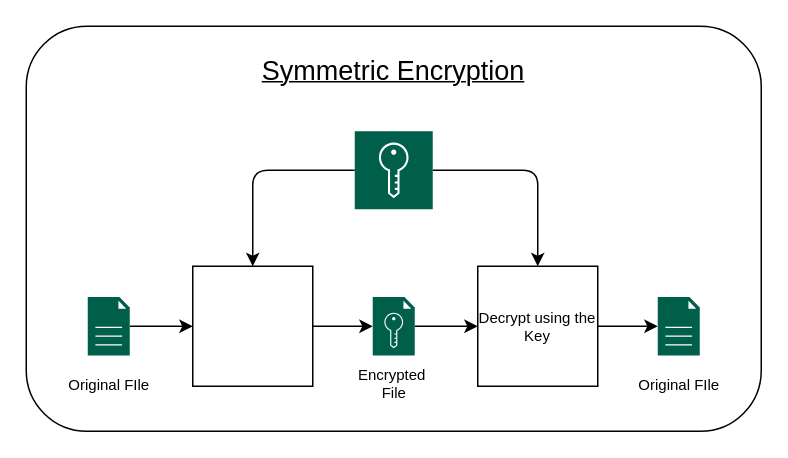
This 788x458 diagram has some shape labels left out. Here are the shapes that lost their labels. From the top down, the centre of each, then its label:
At point (393, 169): "Symmetric Key".
At point (252, 325): "Encrypt using the Key".
